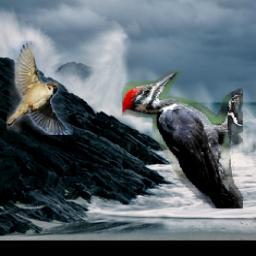Sparrow: (5, 42, 72, 136)
Woodpecker: (121, 71, 242, 209)
